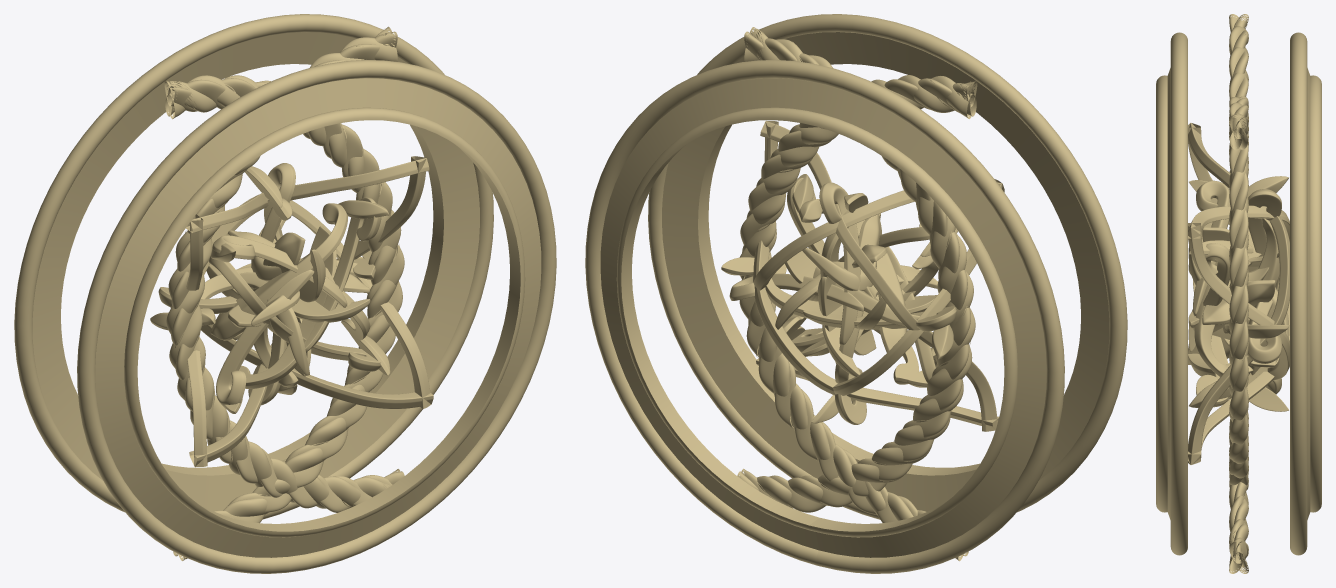
The model's file is خاتم.glb.
The picture shows the model from 3 angles, left to right: view 1: azimuth 30°, elevation 25°; view 2: azimuth 150°, elevation 25°; view 3: azimuth 270°, elevation 25°; orthographic projection. The views are drawn at different scales.
Parts seen in each view (by area): view 1: Plane001, Object004__0, Object005__0, Object007__0, Plane015, Object006__0, Plane009, LineVenz01, Plane013, LineVenz02, LineVenz00, Plane008 (+6 smaller); view 2: Plane001, Object007__0, Object006__0, Object004__0, Object005__0, LineVenz03, Plane015, LineVenz01, Plane013, Plane011, Plane009, Plane010 (+6 smaller); view 3: Plane001, Object005__0, Object007__0, LineVenz00, Plane008, Plane013, LineVenz03, Plane010, Plane009, Object004__0, Plane011, Object006__0 (+6 smaller).
Part boxes in pixels (bbox=[...]): Plane001: bbox=[14, 14, 556, 573]; Object004__0: bbox=[166, 26, 404, 508]; Object005__0: bbox=[164, 75, 398, 556]; Object007__0: bbox=[165, 78, 404, 560]; Plane015: bbox=[210, 200, 389, 408]; Object006__0: bbox=[171, 31, 400, 512]; Plane009: bbox=[224, 197, 381, 413]; LineVenz01: bbox=[187, 158, 429, 467]; Plane013: bbox=[251, 163, 309, 394]; LineVenz02: bbox=[186, 214, 433, 408]; LineVenz00: bbox=[186, 192, 430, 408]; Plane008: bbox=[212, 230, 390, 375]; Plane001: bbox=[585, 14, 1127, 573]; Object007__0: bbox=[742, 75, 977, 556]; Object006__0: bbox=[737, 27, 975, 508]; Object004__0: bbox=[741, 31, 970, 512]; Object005__0: bbox=[739, 78, 976, 561]; LineVenz03: bbox=[753, 121, 998, 429]; Plane015: bbox=[792, 174, 937, 382]; LineVenz01: bbox=[760, 121, 997, 431]; Plane013: bbox=[811, 182, 881, 423]; Plane011: bbox=[729, 265, 953, 359]; Plane009: bbox=[784, 178, 927, 387]; Plane010: bbox=[817, 193, 880, 424]; Plane001: bbox=[1156, 32, 1321, 555]; Object005__0: bbox=[1229, 14, 1248, 489]; Object007__0: bbox=[1229, 14, 1248, 488]; LineVenz00: bbox=[1188, 123, 1289, 464]; Plane008: bbox=[1189, 180, 1289, 407]; Plane013: bbox=[1188, 189, 1288, 411]; LineVenz03: bbox=[1188, 223, 1289, 380]; Plane010: bbox=[1188, 176, 1288, 394]; Plane009: bbox=[1193, 243, 1275, 333]; Object004__0: bbox=[1229, 96, 1248, 573]; Plane011: bbox=[1188, 263, 1281, 363]; Object006__0: bbox=[1229, 97, 1248, 573].
Bounding box in the file's own units: 79973 × 79973 × 25356.
